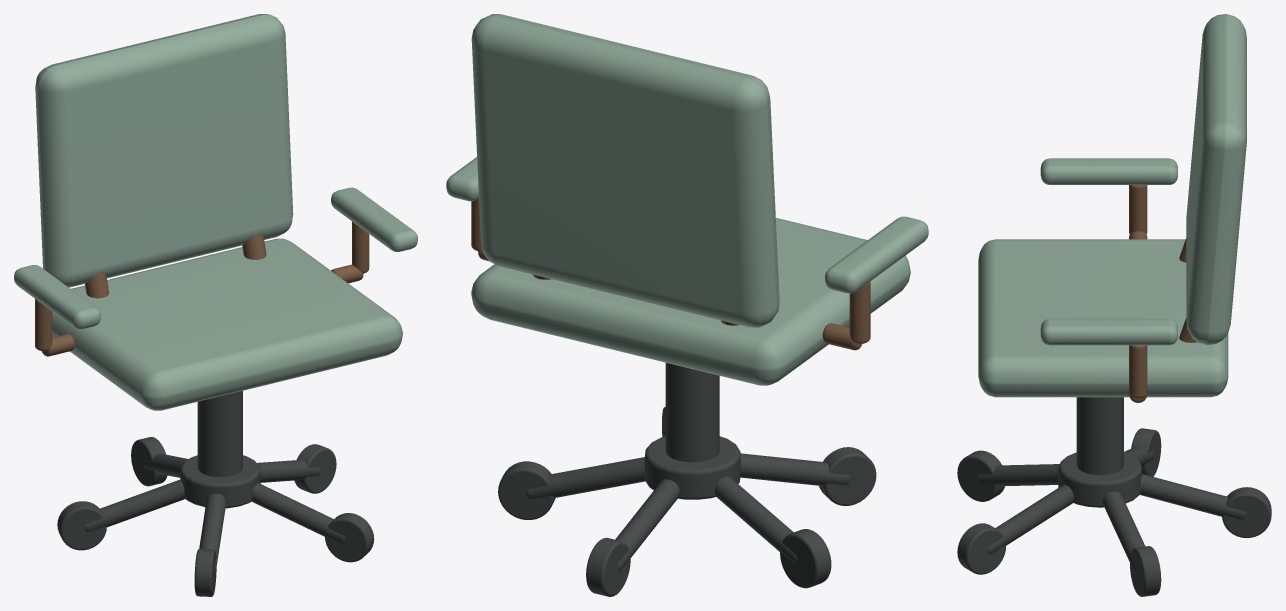
The model's file is chair_acnh_17.glb.
The picture shows the model from 3 angles, left to right: view 1: azimuth 30°, elevation 25°; view 2: azimuth 150°, elevation 25°; view 3: azimuth 270°, elevation 25°; orthographic projection. The views are drawn at different scales.
Visible parts, largest first — view 1: Chair Padded Back, Chair Padded Seat, Chair Stem, Armrest Pad, Armrest Pad.001, Chair Hub, Caster Arm.002, Caster Arm.004, Caster Wheel.002, Caster Wheel.004, Caster Wheel, Caster Arm.003 (+6 smaller); view 2: Chair Padded Back, Chair Padded Seat, Chair Stem, Armrest Pad, Chair Hub, Caster Arm, Caster Arm.003, Caster Wheel, Caster Arm.002, Caster Wheel.003, Caster Wheel.002, Caster Arm.001 (+4 smaller); view 3: Chair Padded Seat, Chair Padded Back, Armrest Pad.001, Chair Stem, Armrest Pad, Chair Hub, Caster Arm.001, Caster Arm.004, Caster Wheel.001, Caster Wheel.004, Caster Wheel.003, Caster Arm.003 (+5 smaller).
Part boxes in pixels (x1,y1,x2,y2): Chair Padded Back: (35, 14, 293, 287); Chair Padded Seat: (52, 238, 402, 410); Chair Stem: (197, 391, 242, 476); Armrest Pad: (14, 265, 100, 329); Armrest Pad.001: (331, 187, 417, 251); Chair Hub: (180, 455, 260, 508); Caster Arm.002: (85, 479, 184, 531); Caster Arm.004: (251, 483, 344, 543); Caster Wheel.002: (57, 501, 106, 550); Caster Wheel.004: (325, 513, 374, 562); Caster Wheel: (294, 444, 336, 493); Caster Arm.003: (199, 494, 226, 574); Chair Padded Back: (471, 14, 779, 327); Chair Padded Seat: (471, 218, 910, 385); Chair Stem: (665, 362, 719, 462); Armrest Pad: (825, 216, 928, 293); Chair Hub: (644, 436, 740, 499); Caster Arm: (526, 457, 645, 499); Caster Arm.003: (740, 453, 850, 485); Caster Wheel: (498, 461, 555, 519); Caster Arm.002: (715, 476, 797, 563); Caster Wheel.003: (819, 447, 876, 505); Caster Wheel.002: (780, 529, 831, 588); Caster Arm.001: (615, 479, 679, 571); Chair Padded Seat: (978, 239, 1228, 397); Chair Padded Back: (1186, 14, 1246, 345); Armrest Pad.001: (1040, 318, 1177, 345); Chair Stem: (1076, 397, 1123, 475); Armrest Pad: (1040, 158, 1177, 184); Chair Hub: (1058, 452, 1141, 507); Caster Arm.001: (1139, 474, 1245, 519); Caster Arm.004: (988, 484, 1073, 554); Caster Wheel.001: (1222, 487, 1271, 537); Caster Wheel.004: (957, 523, 1006, 574); Caster Wheel.003: (957, 450, 1004, 501); Caster Arm.003: (977, 464, 1059, 486).
Bounding box in the file's own units: 0.315 × 0.3937 × 0.2403.
